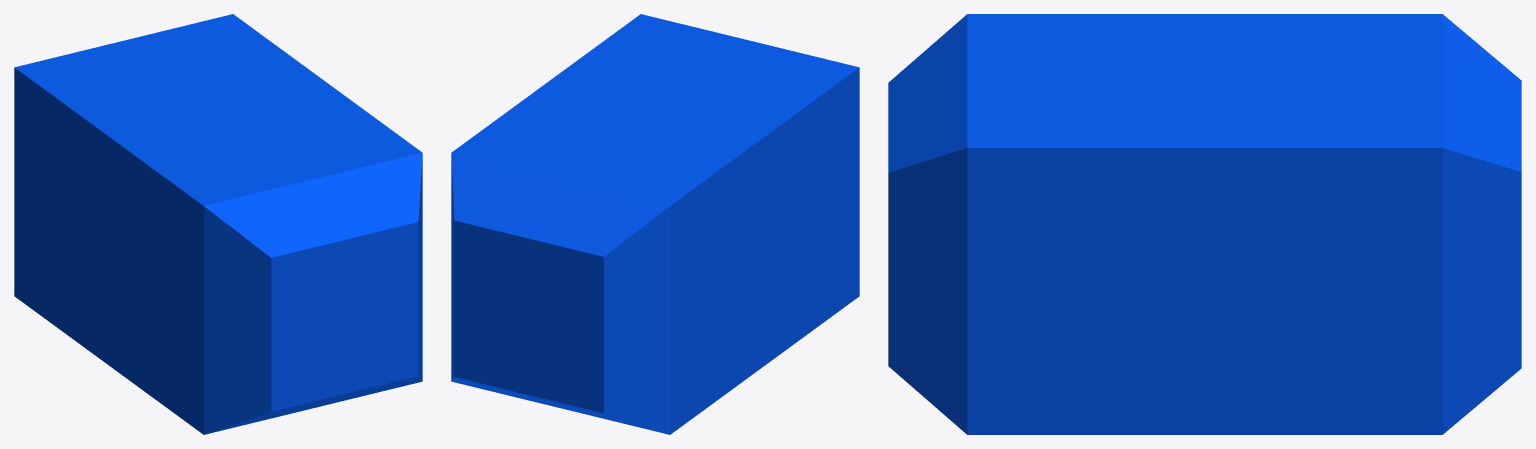
Rendered from L_Movil.fbx.
3 views of the same model, side by side, from view 1: azimuth 30°, elevation 25°; view 2: azimuth 150°, elevation 25°; view 3: azimuth 270°, elevation 25° (orthographic). The views are drawn at different scales.
Visible parts, largest first — view 1: Cube.060; view 2: Cube.060; view 3: Cube.060.
Part boxes in pixels (box(x1,y1,x2,y2)): Cube.060: box(14, 14, 422, 434); Cube.060: box(451, 14, 859, 434); Cube.060: box(888, 14, 1521, 434).
Size of the model in its own units: 100 by 100 by 200.
